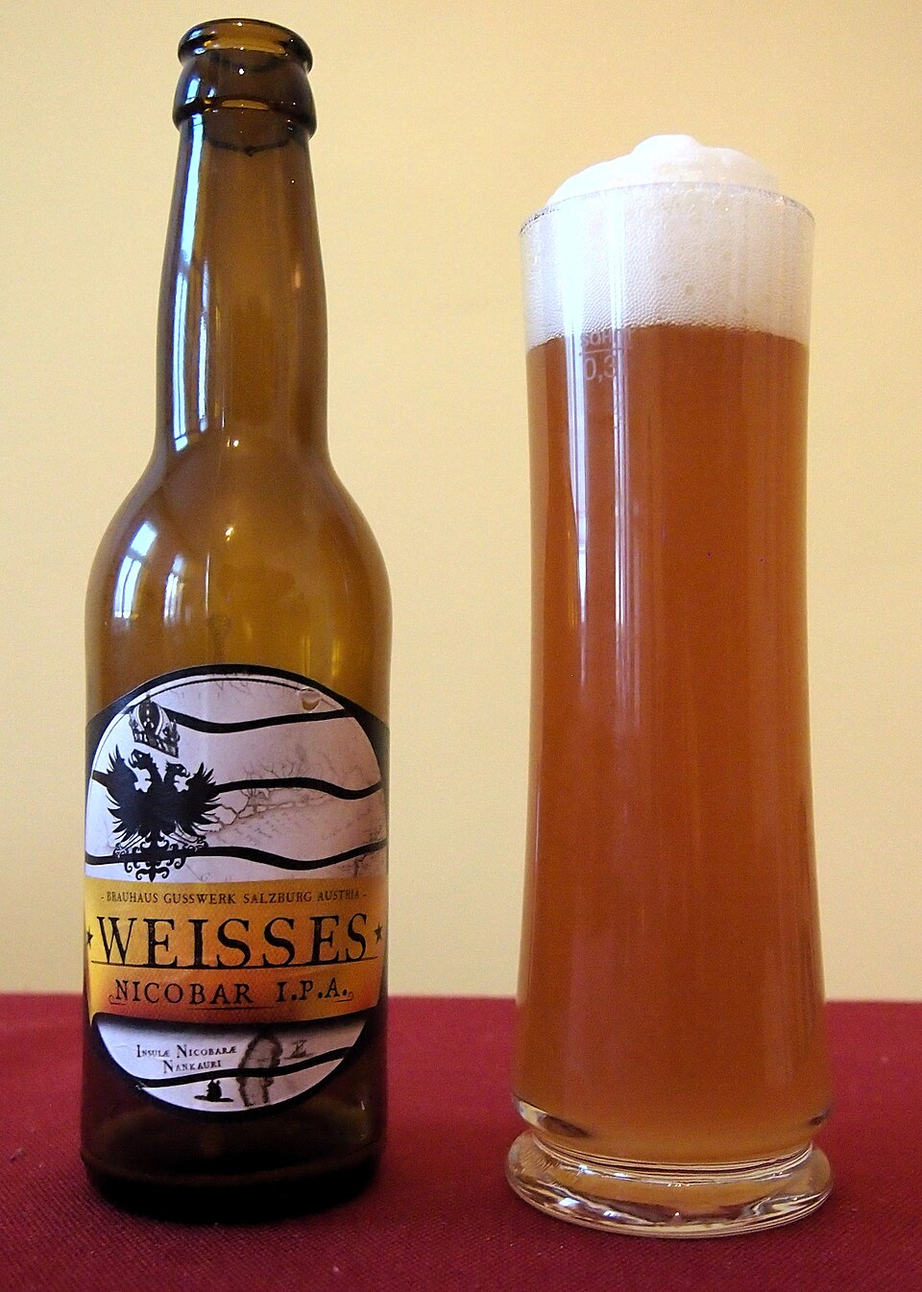beer-bottle: (69, 9, 407, 1237)
